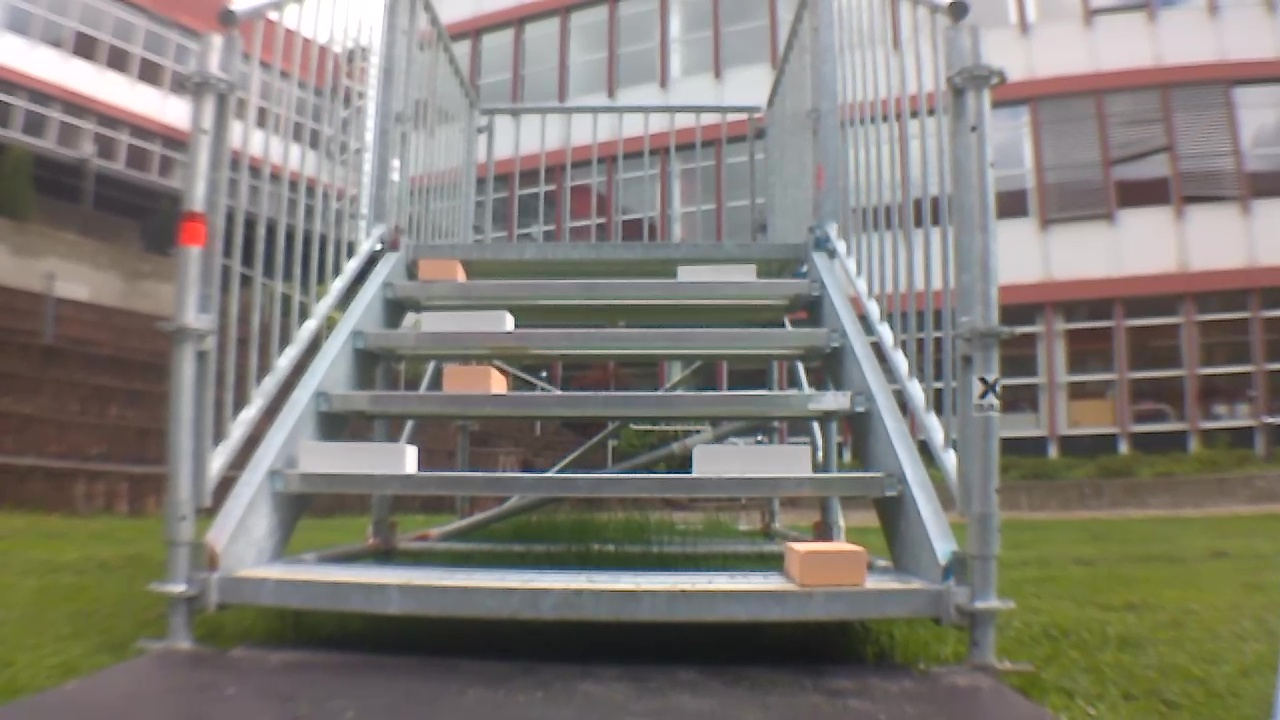brick: (300, 439, 418, 473), (784, 542, 865, 586), (692, 444, 810, 474), (443, 366, 507, 394), (423, 311, 512, 329), (678, 263, 755, 282), (419, 260, 464, 281)
edge: (216, 577, 940, 620), (273, 473, 899, 496), (317, 392, 871, 412), (350, 327, 847, 348), (380, 278, 821, 296), (416, 240, 804, 258)
stairs: (146, 5, 1024, 671)
steps: (205, 236, 955, 631)
